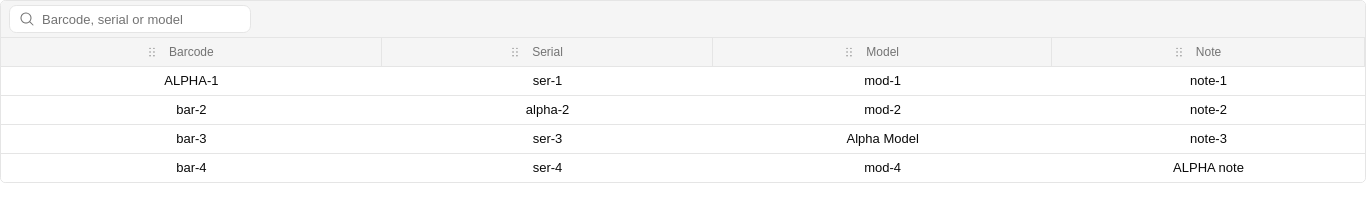
Test case: table text search › restores every row when the search is cleared
In the field labelled "Barcode, serial or model": (130, 19) [9,5,251,33], type "alpha"
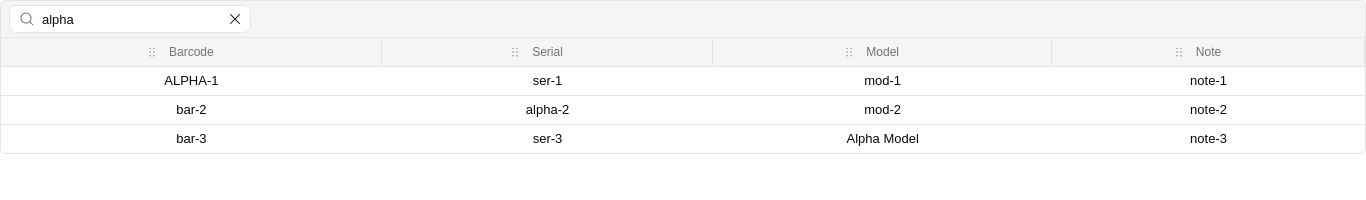
Click the button named "Clear search": (235, 19) [223,7,247,31]
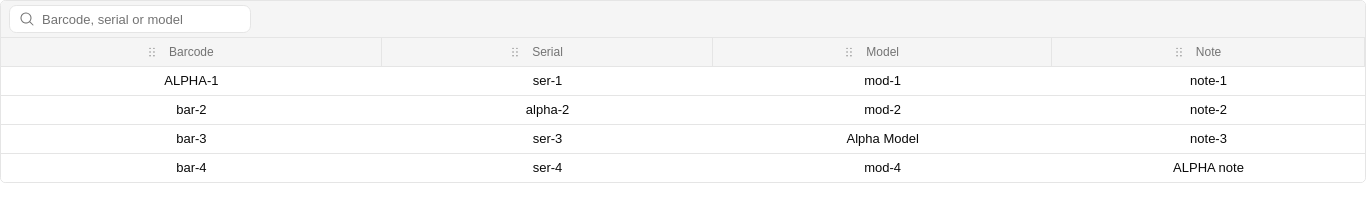
Now the field labelled "Barcode, serial or model" is empty, box [9,5,251,33]
